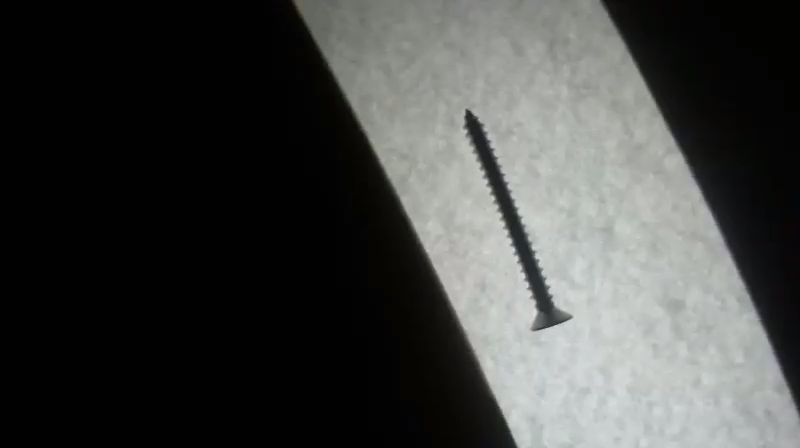S002: (460, 106, 577, 337)
